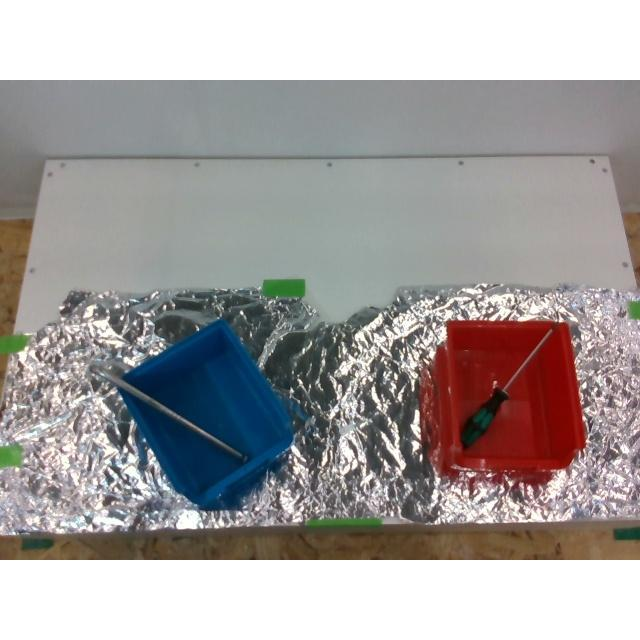AllenKey: (89, 361, 247, 464)
Screwdriver: (459, 324, 556, 448)
container_box_blue: (122, 320, 294, 508)
container_box_red: (445, 322, 587, 471)
